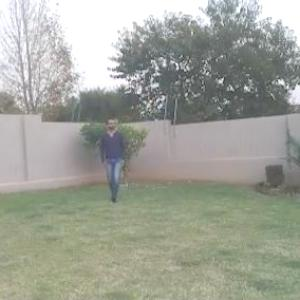follow: (100, 114, 127, 203)
